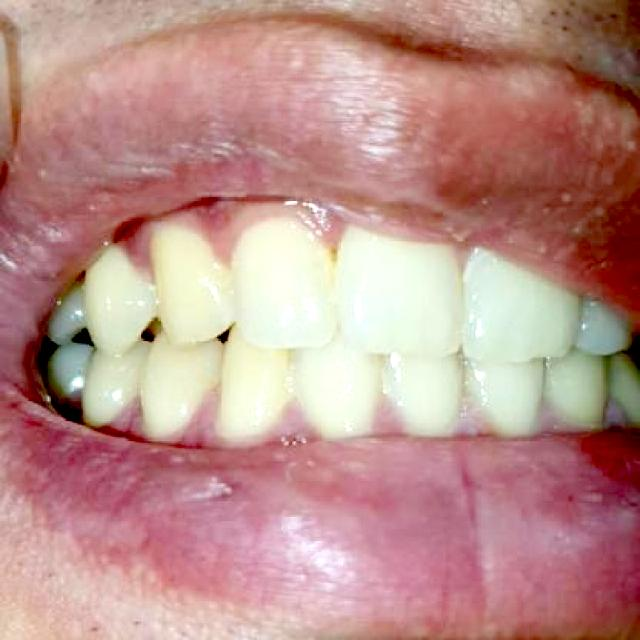Plaque: (93, 211, 191, 298)
